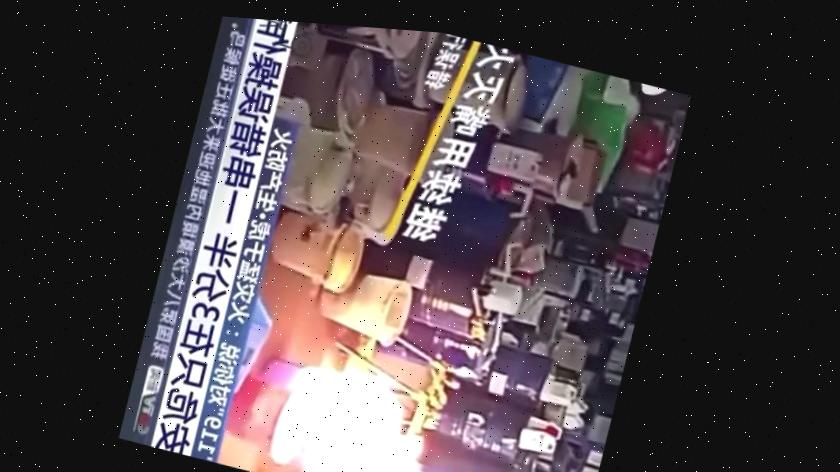fire: (211, 275, 518, 472)
